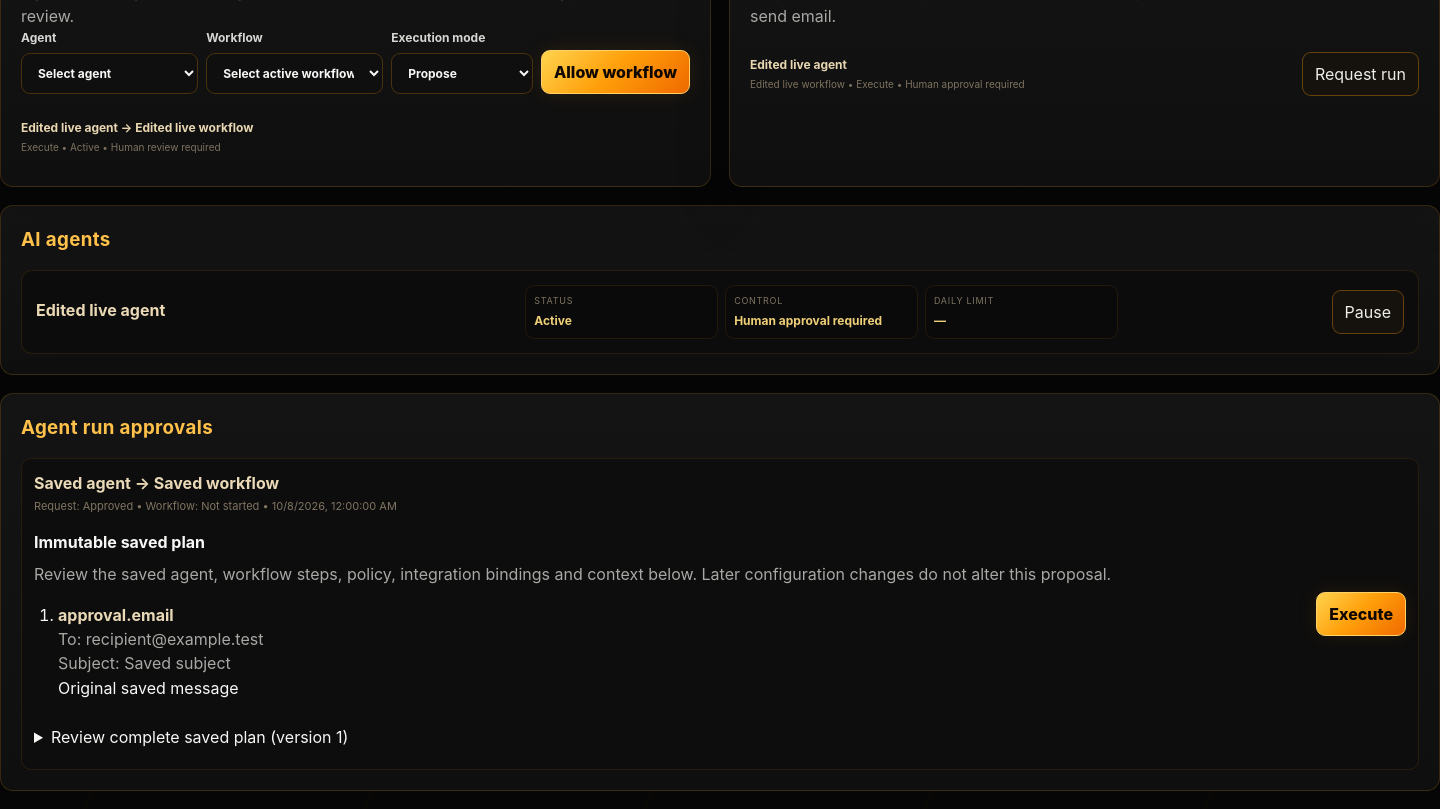
Scenario: agent outcomes, repeat clicks and interrupted contexts › keeps a waiting workflow incomplete and prevents another execution
(page scrolled)
Click the button "Execute" at (1361, 614), box 1316,592 -> 1406,636
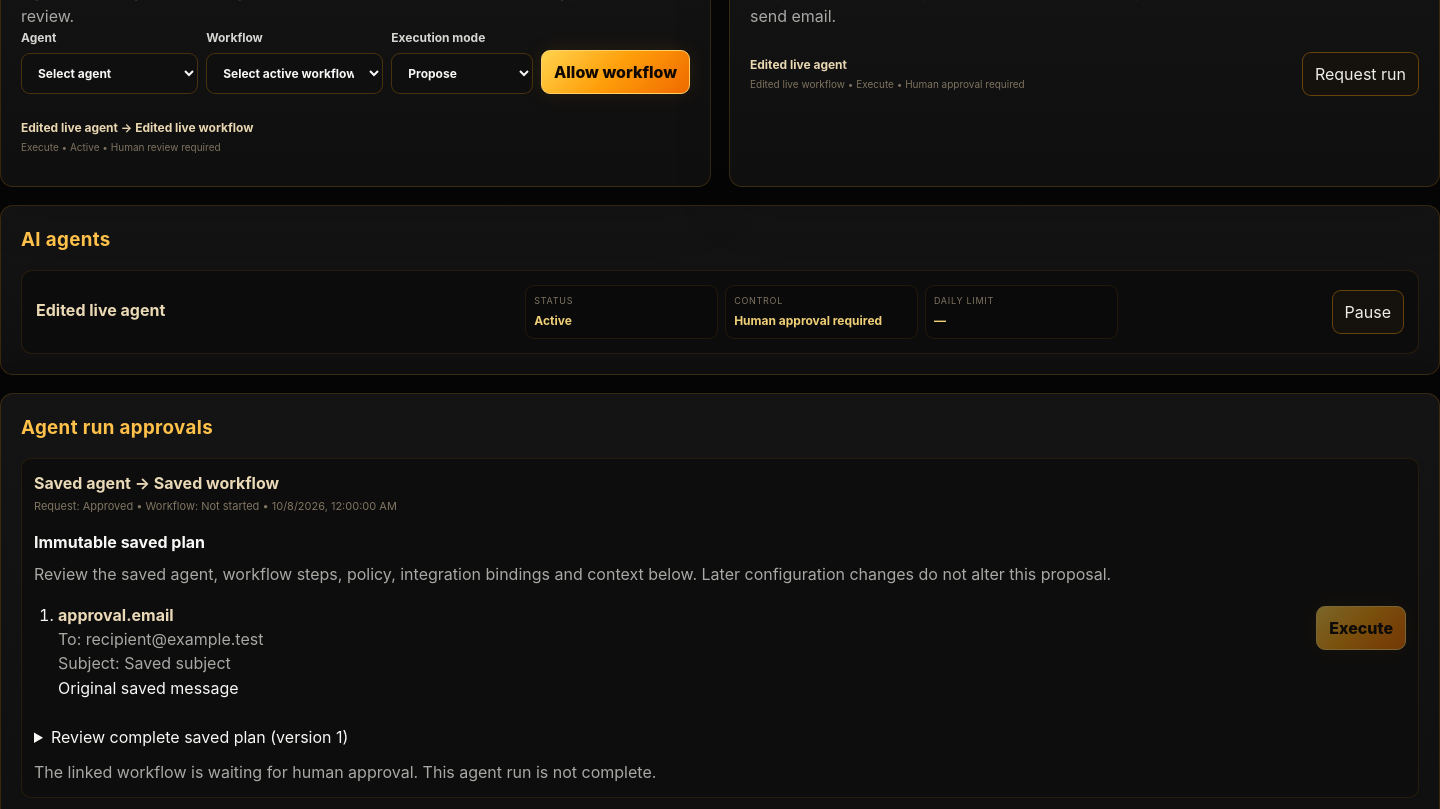
Now the button "Execute" is disabled, box 1316,606 -> 1406,650
